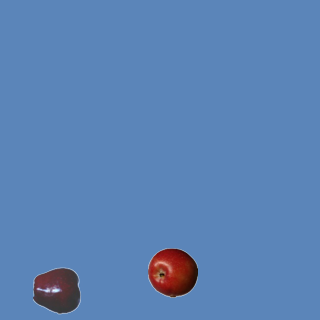Apple Braeburn: (147, 247, 197, 297)
Apple Red Delicious: (32, 265, 82, 315)
